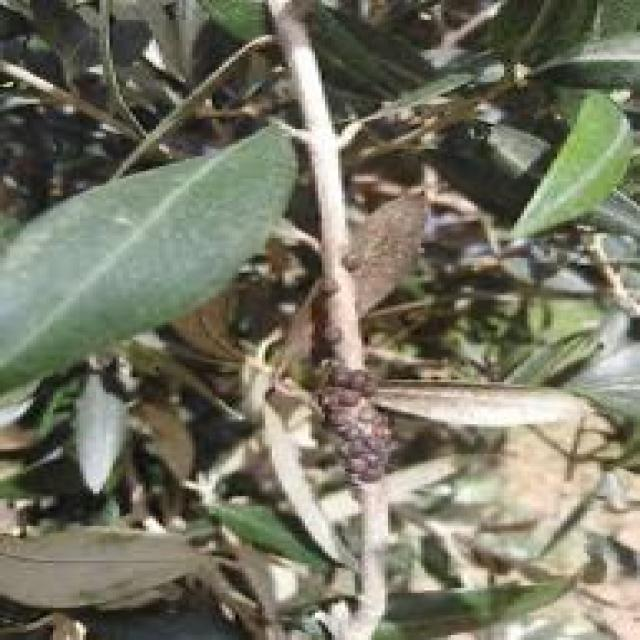Black Scale: (315, 360, 388, 486), (345, 253, 365, 275)
